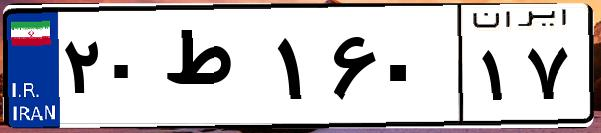0: (385, 28, 445, 110), (110, 28, 158, 98)
1: (270, 28, 330, 110), (475, 38, 525, 113)
2: (57, 26, 110, 100)
6: (330, 28, 385, 110)
7: (525, 38, 570, 115)
ط: (158, 20, 270, 120)
